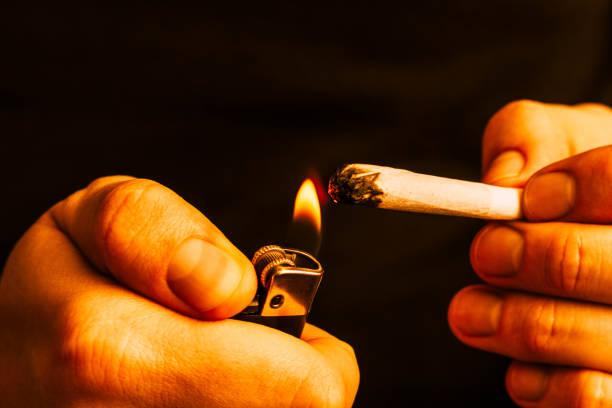Fire: (291, 164, 324, 253)
